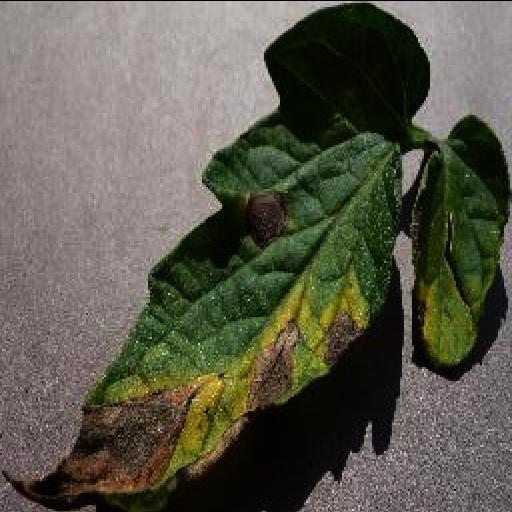disease_tomato: (4, 0, 432, 504)
